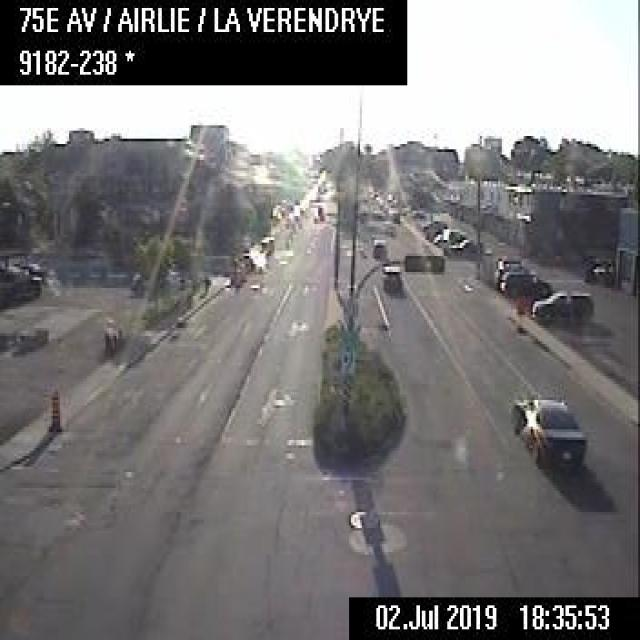construction: (45, 384, 62, 432), (512, 293, 524, 315)
vehicle: (508, 389, 586, 472), (530, 286, 592, 321), (499, 269, 551, 298), (379, 263, 402, 290), (370, 237, 386, 259)
